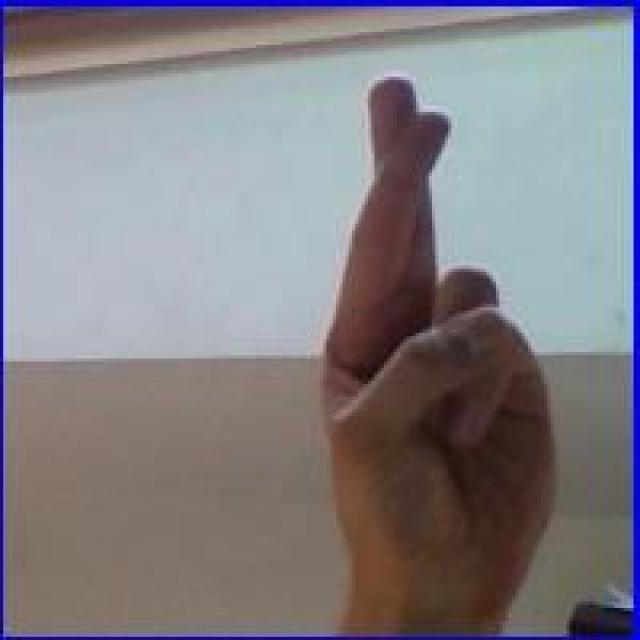R: (314, 72, 566, 613)
